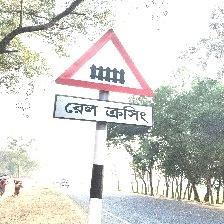Rail-crossing: (53, 28, 156, 129)
